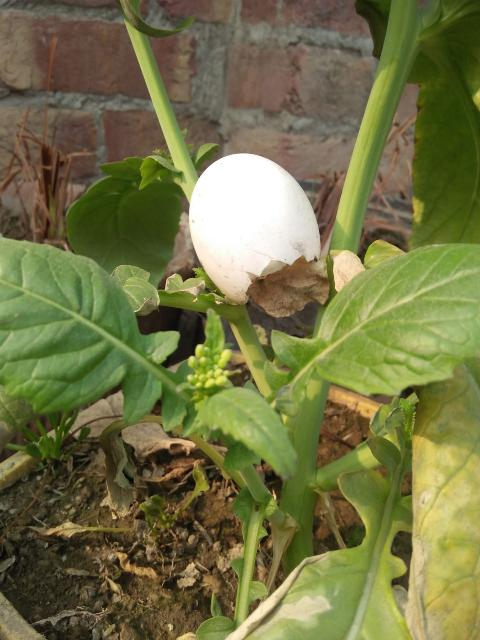Roto: (188, 152, 322, 306)
